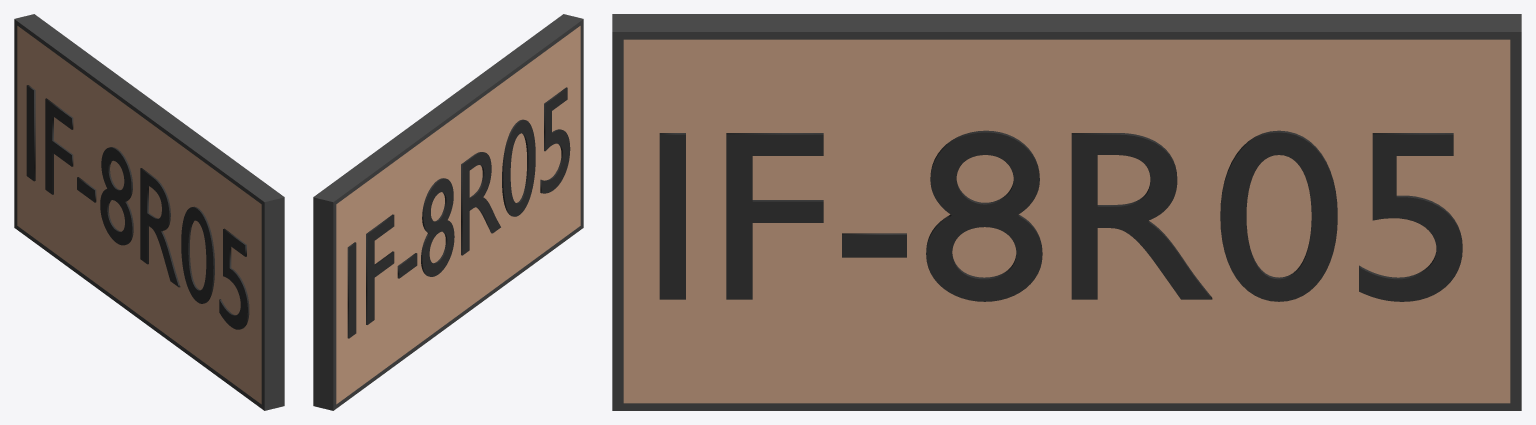
The picture shows the model from 3 angles, left to right: view 1: azimuth 30°, elevation 25°; view 2: azimuth 150°, elevation 25°; view 3: azimuth 270°, elevation 25°; orthographic projection. The views are drawn at different scales.
Visible parts, largest first — view 1: Cube, Text.001; view 2: Cube, Text.001; view 3: Cube, Text.
Boxes of the visible parts, x1,y1,x2,y2 form: Cube: [14, 14, 284, 410]; Text.001: [26, 85, 249, 329]; Cube: [313, 14, 583, 410]; Text.001: [347, 87, 570, 338]; Cube: [612, 14, 1521, 410]; Text: [659, 130, 1462, 301].
Size of the model in its own units: 12.6 by 105 by 229.
